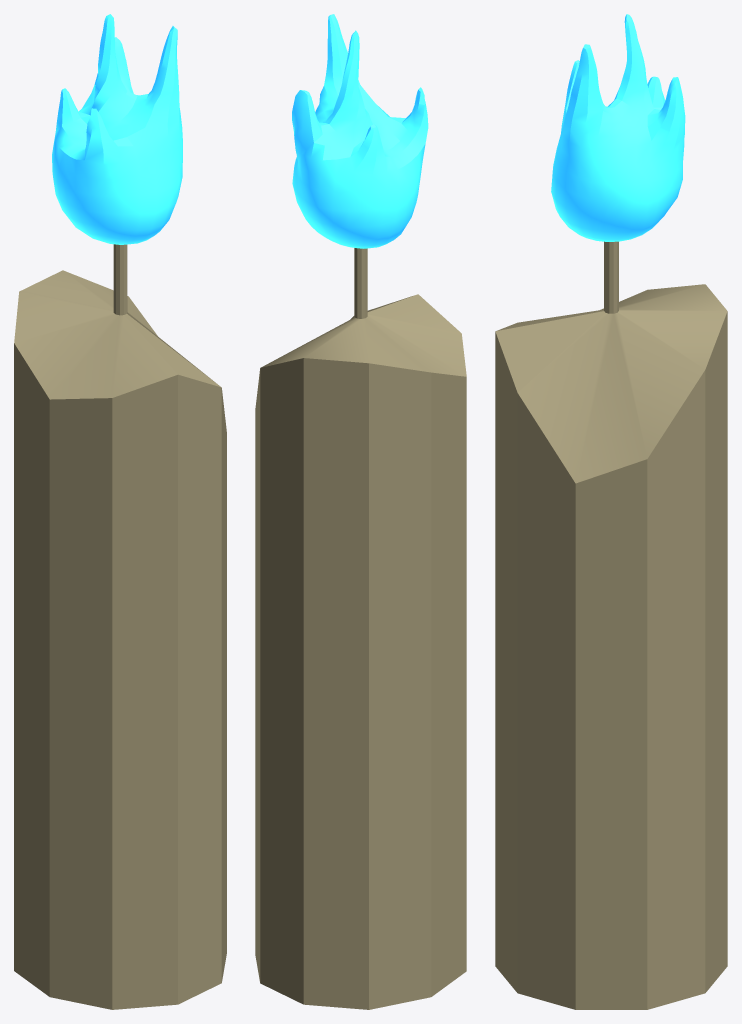
File: Candle_Blu_2.fbx
The picture shows the model from 3 angles, left to right: view 1: azimuth 30°, elevation 25°; view 2: azimuth 150°, elevation 25°; view 3: azimuth 270°, elevation 25°; orthographic projection.
Visible parts, largest first — view 1: Candle 2.001; view 2: Candle 2.001; view 3: Candle 2.001.
Part boxes in pixels (left/top/right/bottom): Candle 2.001: left=14, top=14, right=226, bottom=1009; Candle 2.001: left=255, top=14, right=466, bottom=1009; Candle 2.001: left=495, top=14, right=727, bottom=1009.
Bounding box in the file's own units: 15.79 × 80.39 × 17.79.
